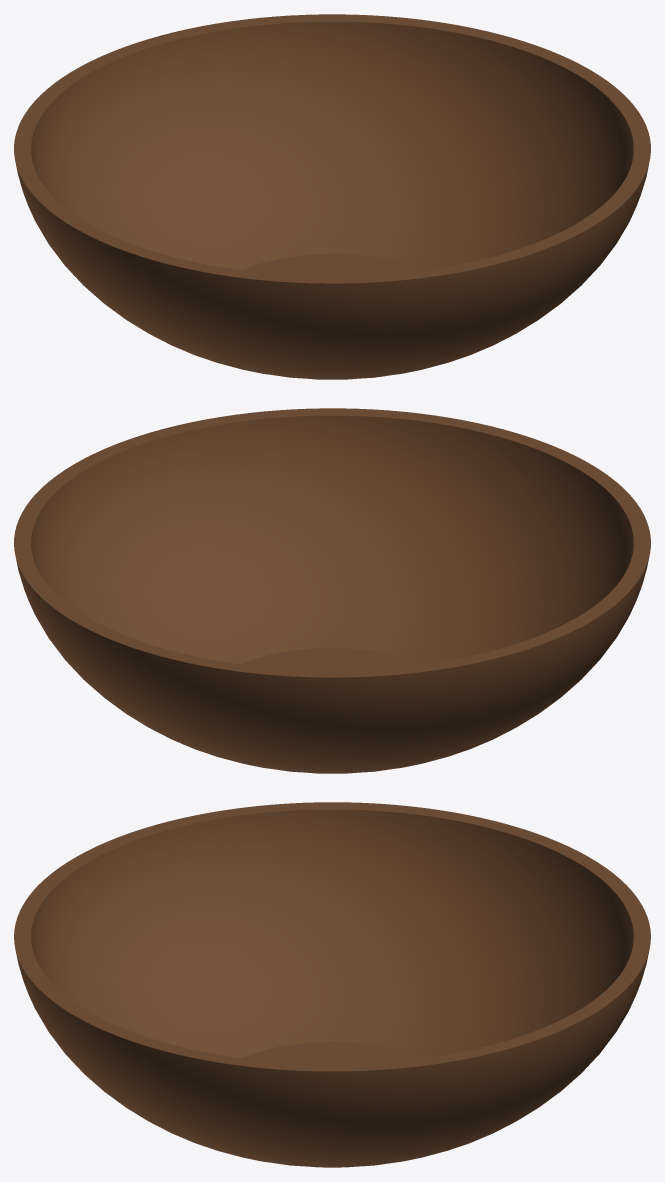
The model's file is bowl.glb.
3 views of the same model, one above another, from view 1: azimuth 30°, elevation 25°; view 2: azimuth 150°, elevation 25°; view 3: azimuth 270°, elevation 25° (orthographic).
Visible parts, largest first — view 1: bowl; view 2: bowl; view 3: bowl.
Part boxes in pixels (x1,y1,x2,y2): bowl: (14, 14, 650, 379); bowl: (14, 408, 650, 773); bowl: (14, 802, 650, 1167).
Bounding box in the file's own units: 0.3 × 0.09 × 0.3.
